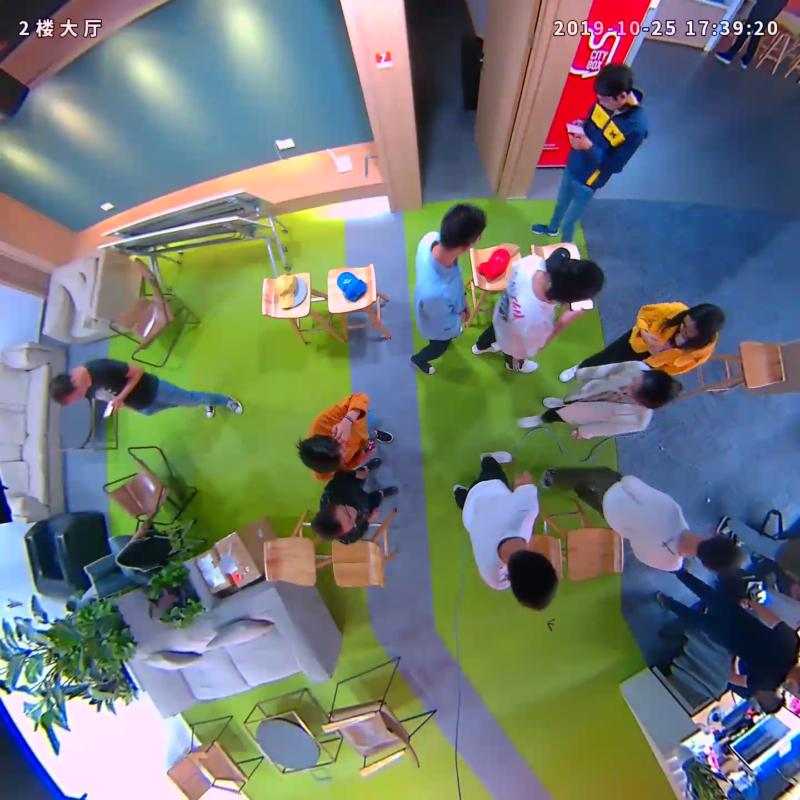head: (508, 551, 557, 612), (545, 259, 605, 302), (440, 203, 486, 257), (695, 533, 744, 576), (627, 367, 678, 408), (593, 62, 633, 111), (297, 434, 344, 472), (312, 502, 357, 541), (680, 303, 725, 340), (49, 373, 87, 407)
